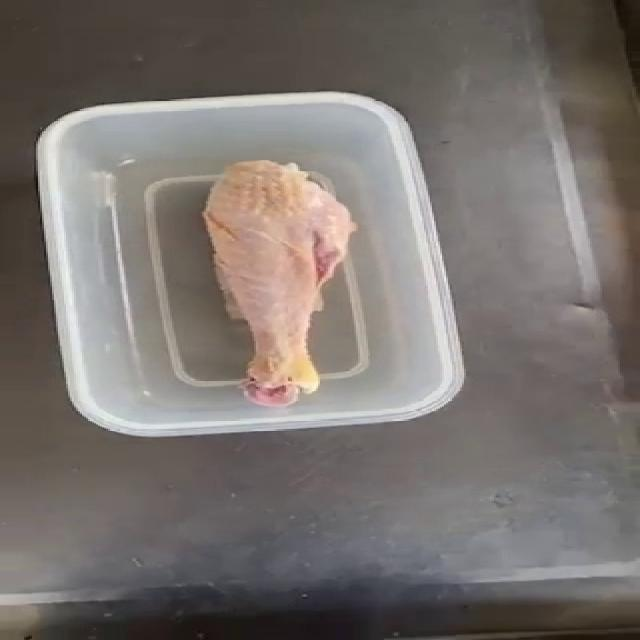chicken: (200, 158, 357, 407)
